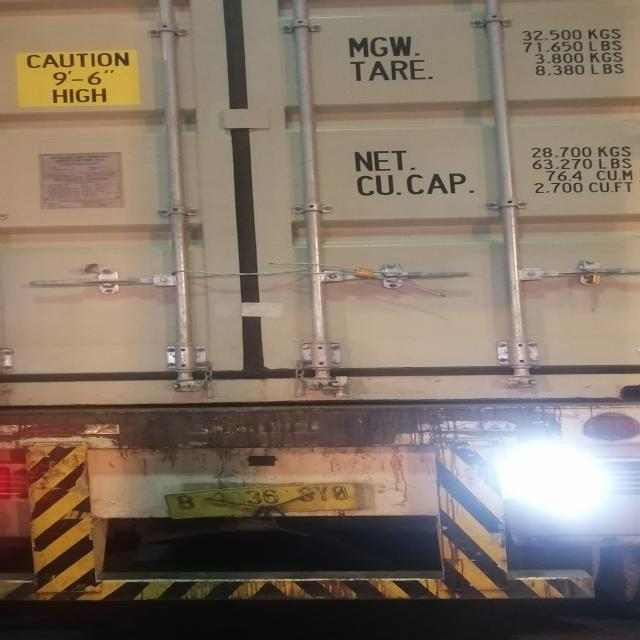seal: (344, 264, 406, 285), (587, 266, 604, 313), (330, 375, 355, 401)
